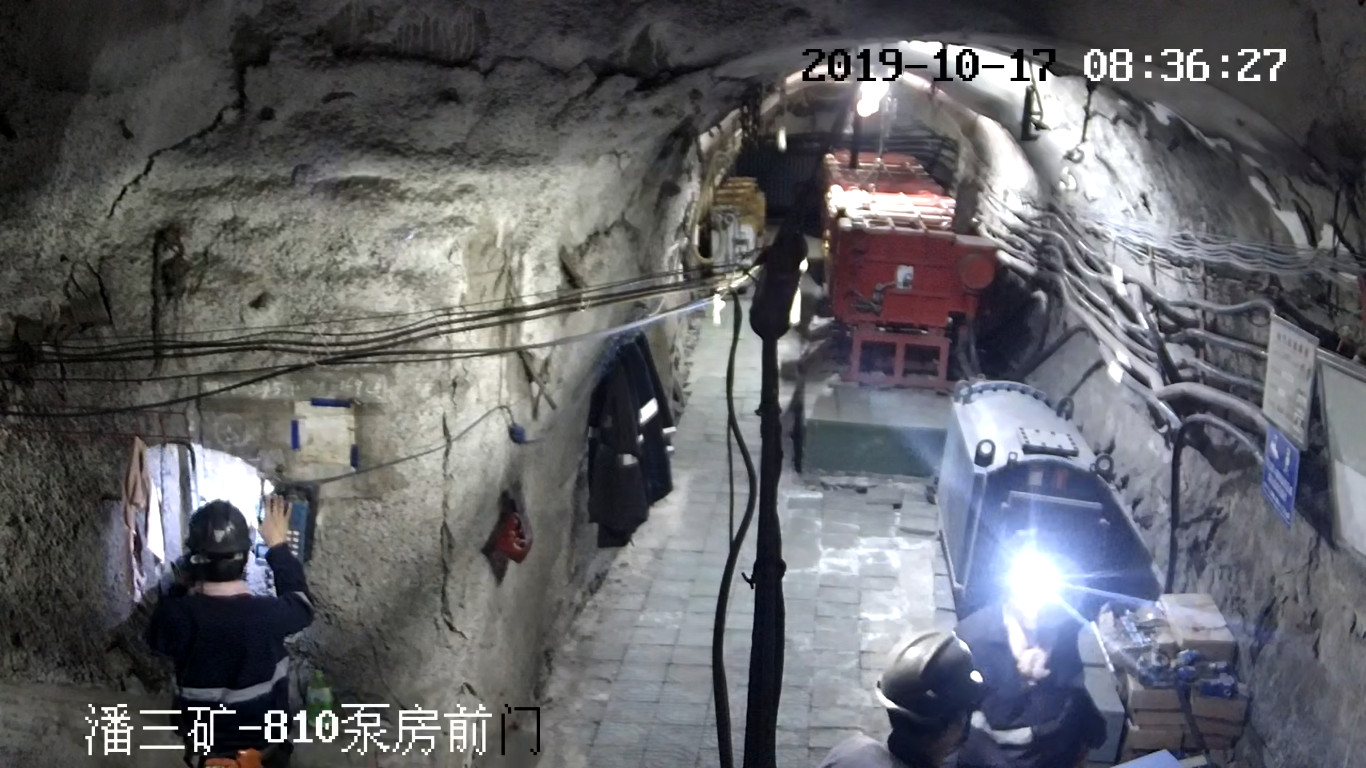helmet: (183, 498, 251, 551)
